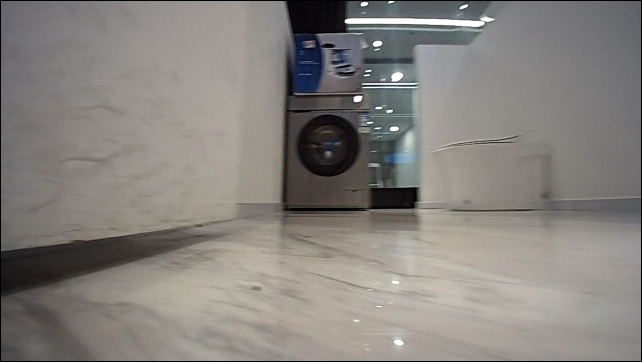toilet: (430, 135, 555, 214)
washing_machine: (281, 94, 375, 212)
